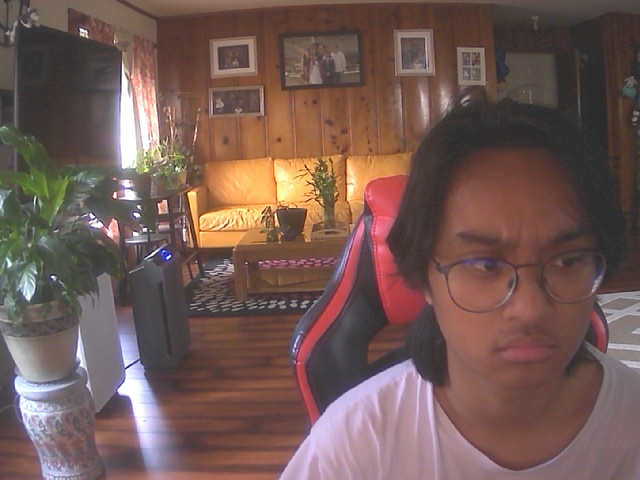anger: (420, 111, 615, 401)
